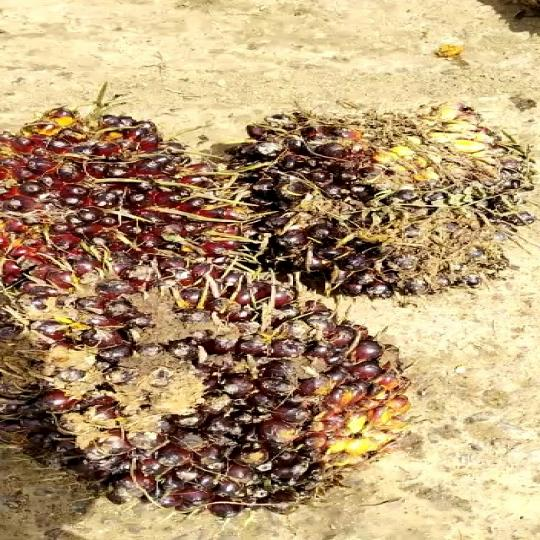kurang masak: (5, 258, 400, 519), (225, 104, 540, 305), (0, 109, 240, 316)
